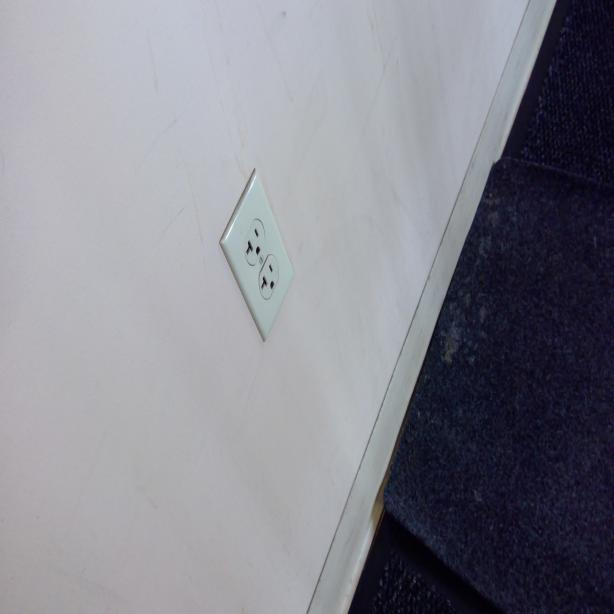typeb: (241, 224, 264, 262), (260, 258, 278, 304)
